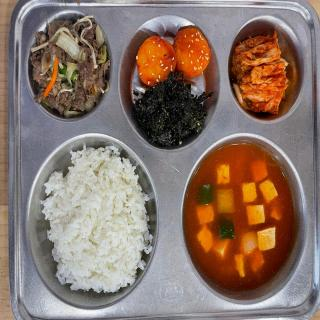Nasi: (43, 147, 155, 294)
